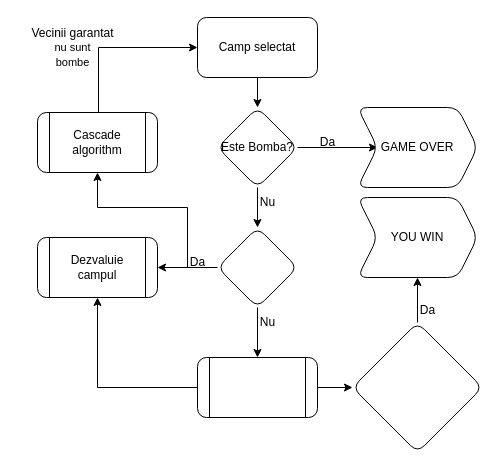
The diagram is 500 pixels wide and 470 high, and some of its shapes have lost their labels. The box of each missing label's shape, as (x1, y1, x2, y2) in pixels:
Au fost distruse toate campurile safe?: (352, 322, 482, 452)
Este 0?: (216, 226, 298, 308)
Sterge butonul: (196, 356, 318, 418)
